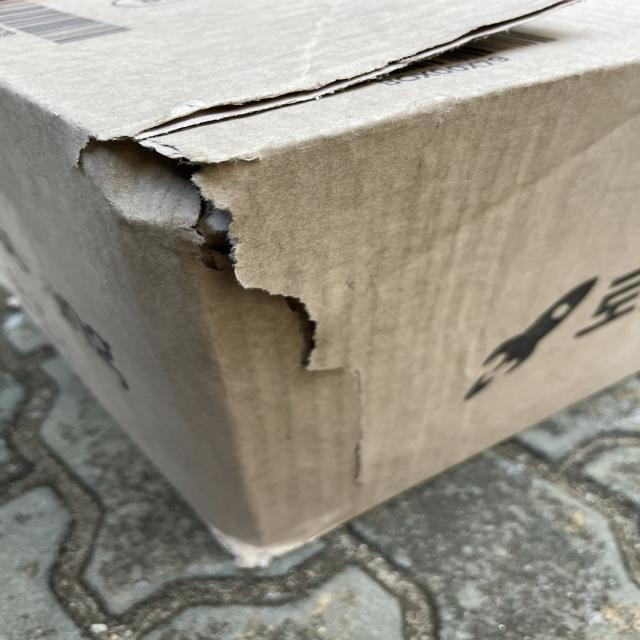hole: (87, 134, 246, 223)
